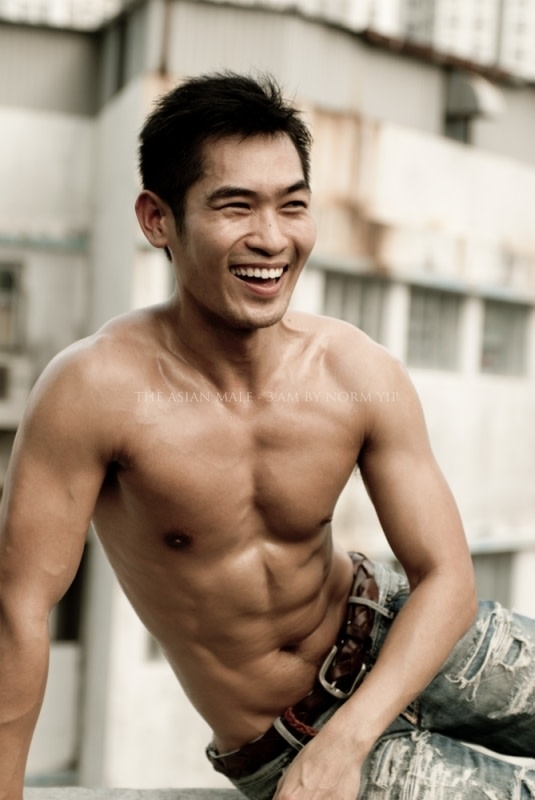bare: (176, 219, 322, 333)
